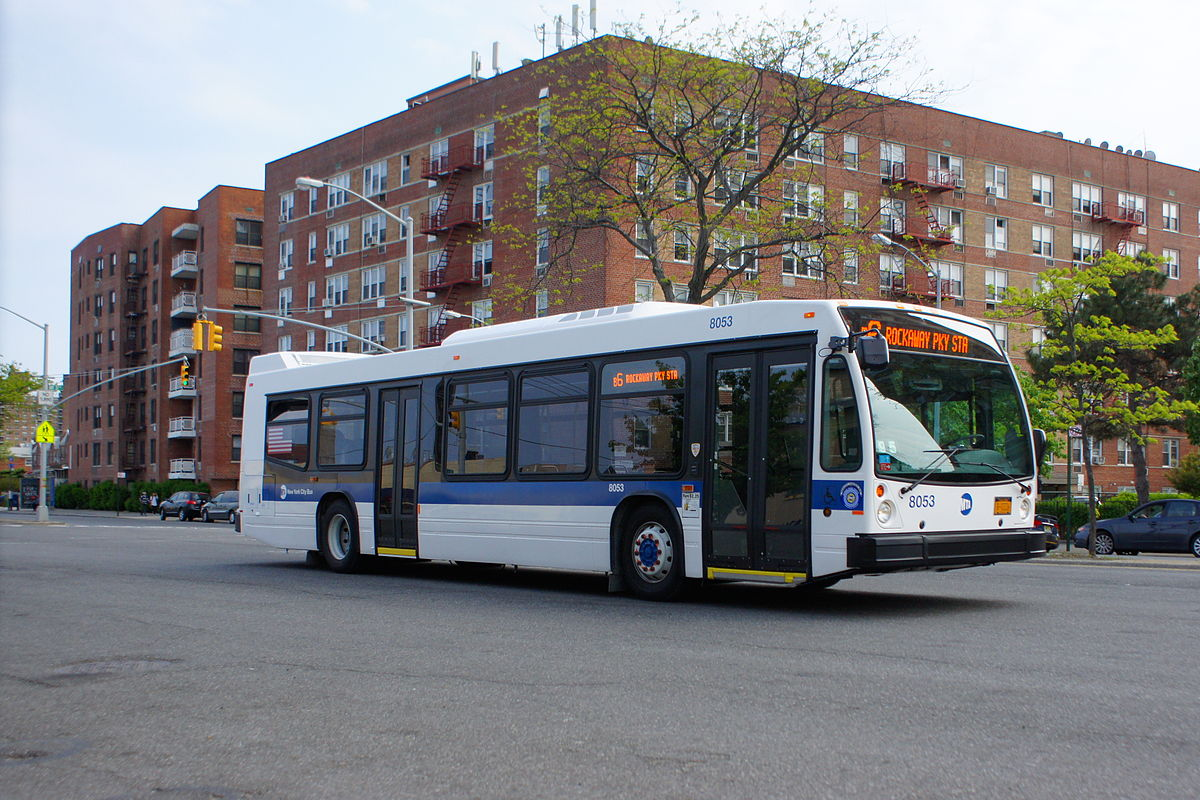bus: (234, 319, 1050, 608)
car: (1067, 483, 1200, 586)
